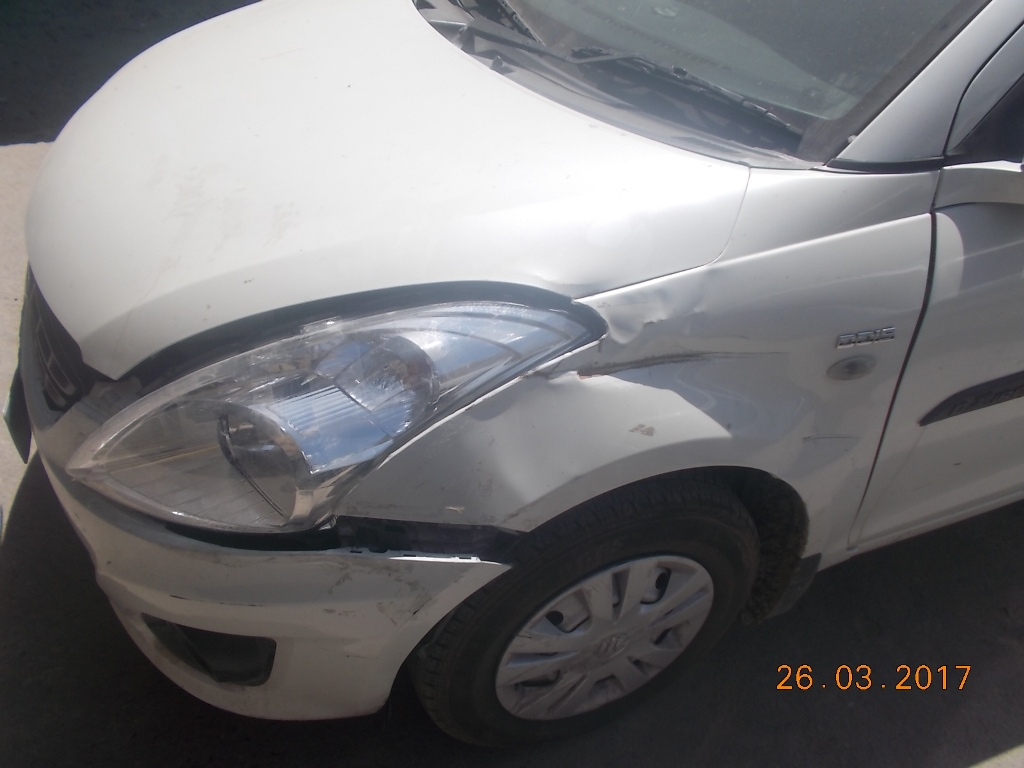Dent: (614, 310, 822, 438), (562, 358, 609, 408)
Dislocation: (351, 485, 509, 591)
